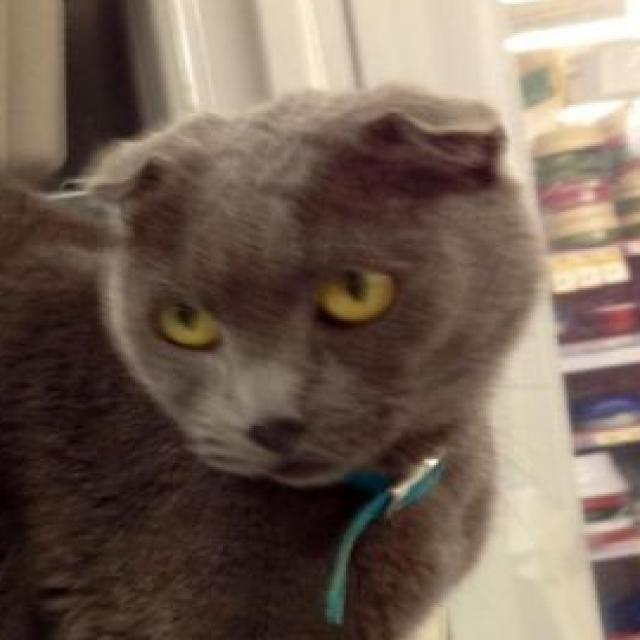Scottish Fold: (0, 74, 552, 640)
